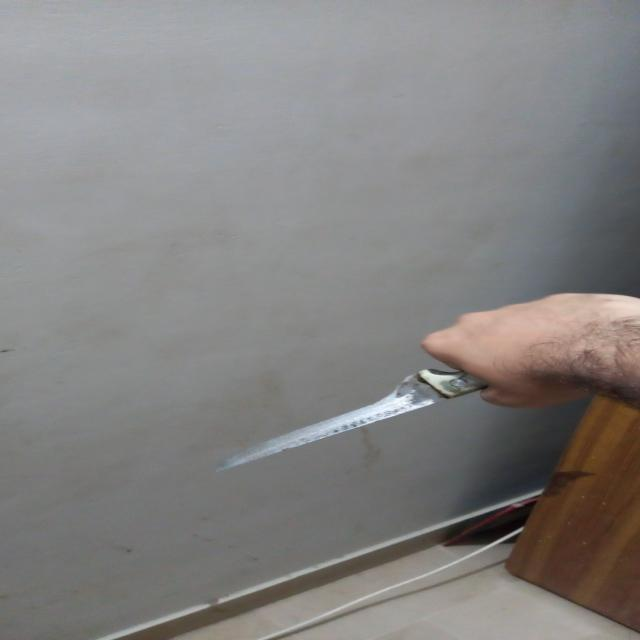knife: (219, 372, 494, 473)
